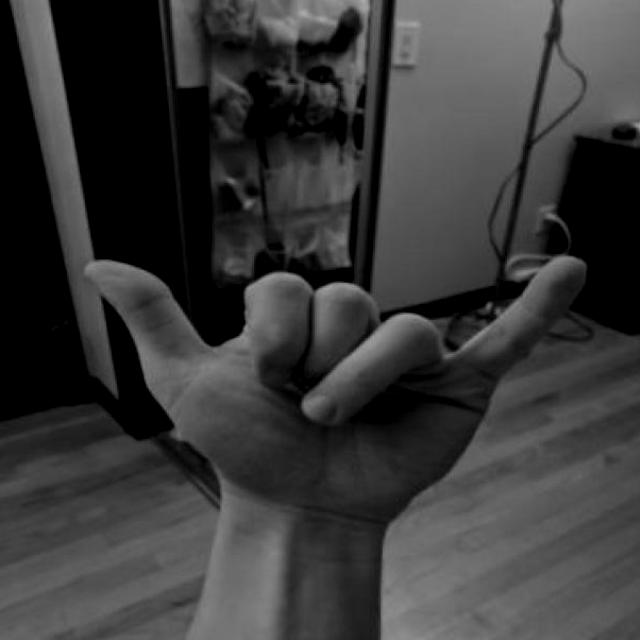Y: (65, 213, 602, 571)
